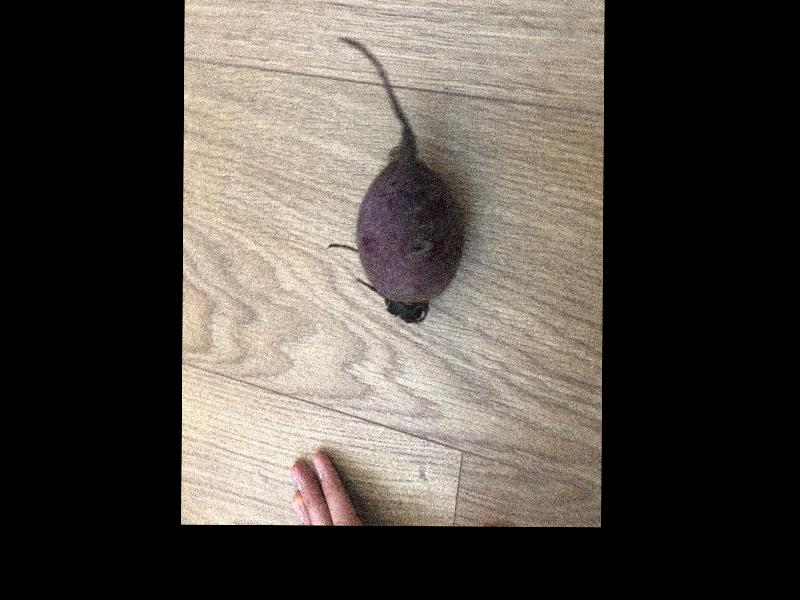Beet: (328, 36, 462, 322)
